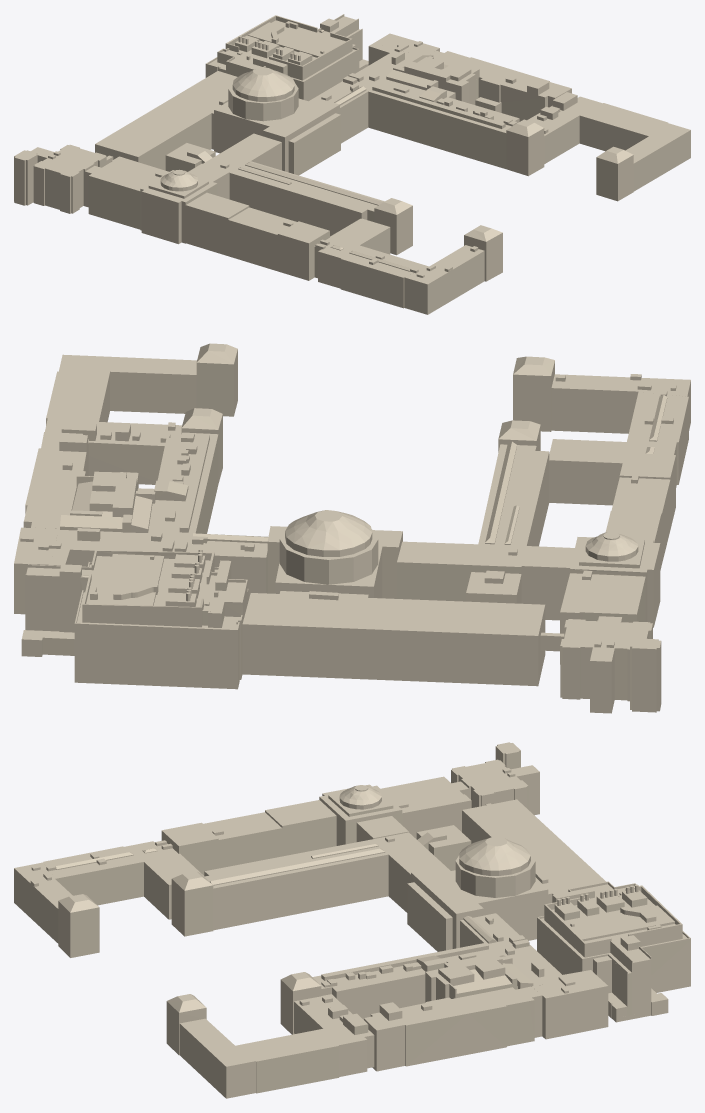
The model's file is DOMO - Copy.gltf.
3 renders of one model, top to bottom at view 1: azimuth 30°, elevation 25°; view 2: azimuth 150°, elevation 25°; view 3: azimuth 270°, elevation 25°, orthographic. The views are drawn at different scales.
Parts seen in each view (by area): view 1: Camb3D_Bldg_Active_MP; view 2: Camb3D_Bldg_Active_MP; view 3: Camb3D_Bldg_Active_MP.
Part boxes in pixels (box(x1,y1,x2,y2)): Camb3D_Bldg_Active_MP: box(14, 14, 690, 314); Camb3D_Bldg_Active_MP: box(14, 343, 690, 713); Camb3D_Bldg_Active_MP: box(14, 742, 690, 1098).
Bounding box in the file's own units: 1123 × 156 × 1049.
